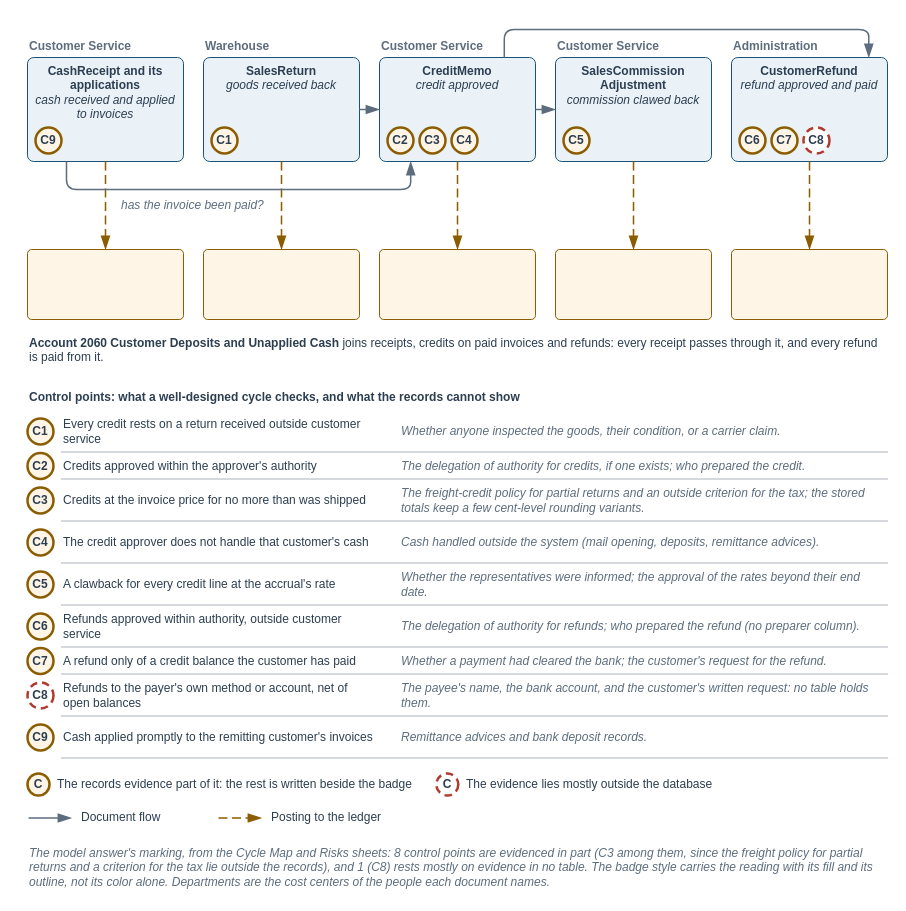
Some shapes in this 906 by 911 pixel diagram are drawn without their labels. Each missing label, with the centre of its shape:
Dr 1040 Inventory Cr 5010–5040 Cost of goods sold: point (281, 284)
Dr 2034 Commission payable Cr 6290 Commission expense: point (633, 284)
Dr 2060 Cr 1010 Cash: point (809, 284)
Dr 4060, 4050, 2050 Cr 1020 and/or 2060: point (457, 284)
Receipt: Dr 1010, Cr 2060 Applied: Dr 2060 , Cr 1020: point (105, 284)
